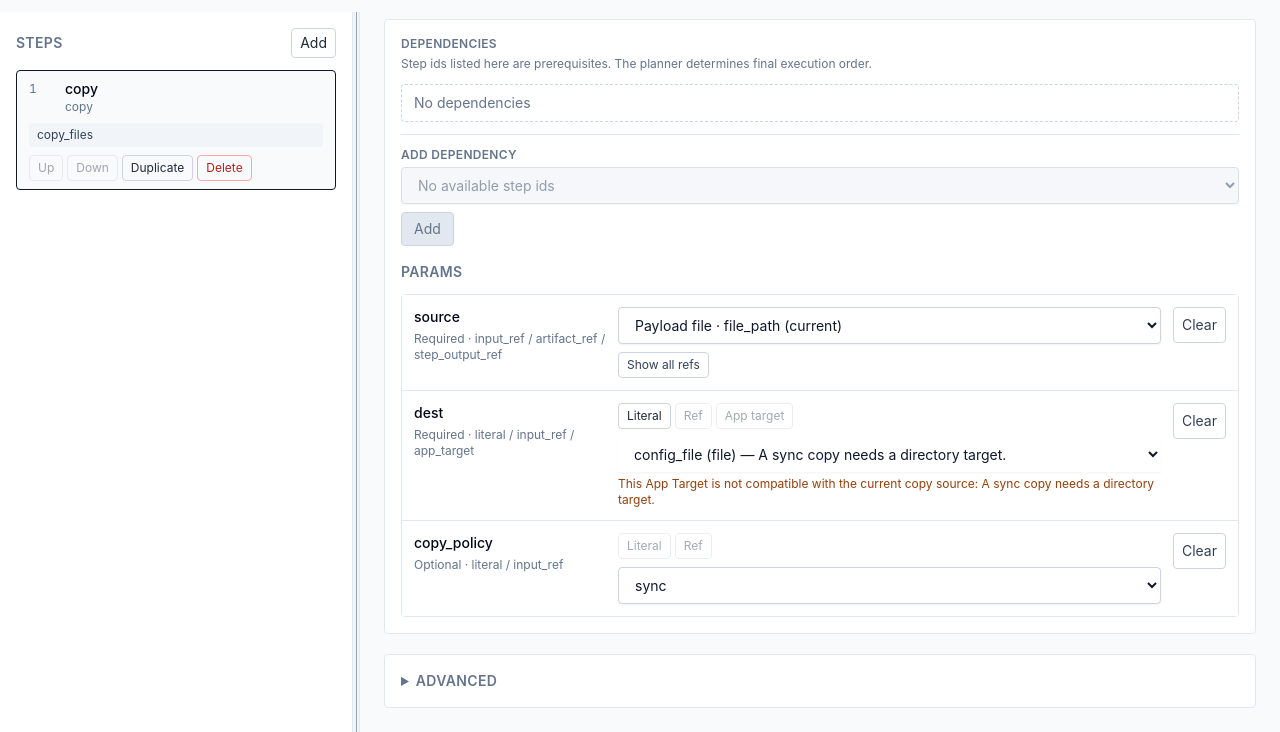
Test: StepsEditor catalog-backed App-aware controls › lists App Targets with planner compatibility and re-evaluates them when the copy policy changes
(page scrolled)
Select "merge" in the dropdown in the row of "Optional" at [889, 586], box left=618, top=567, right=1161, bottom=604
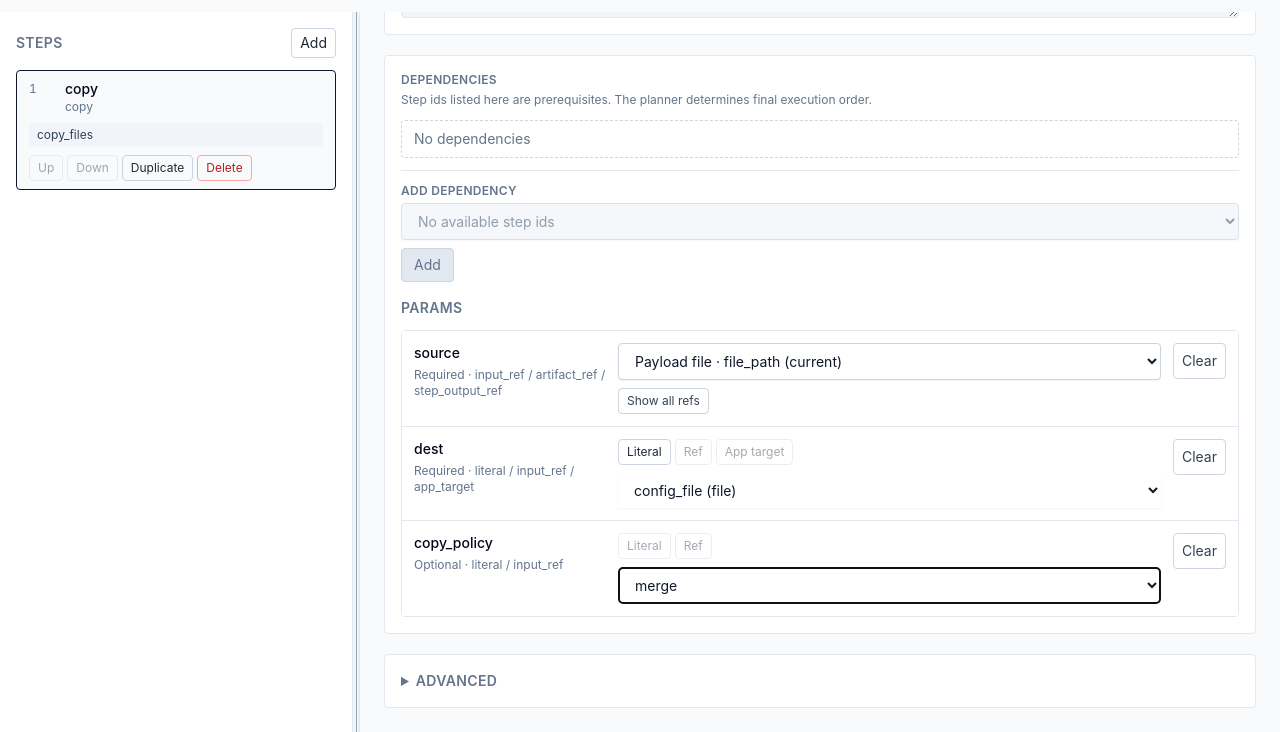
Now the dropdown next to "literal / input_ref / app_target" shows "config_file (file)", box left=618, top=473, right=1161, bottom=508
